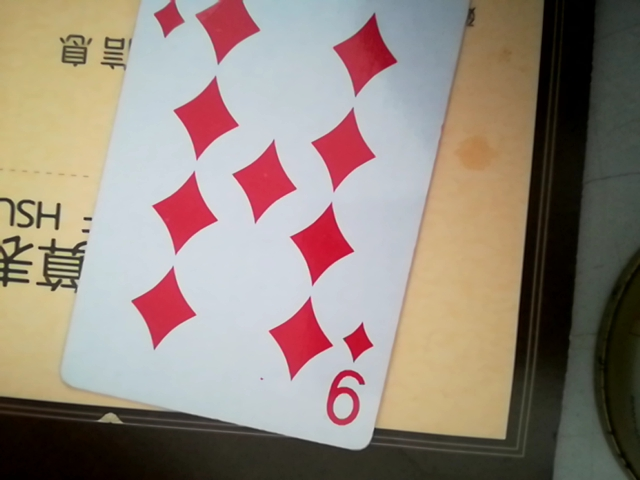fk 9: (50, 3, 488, 459)
